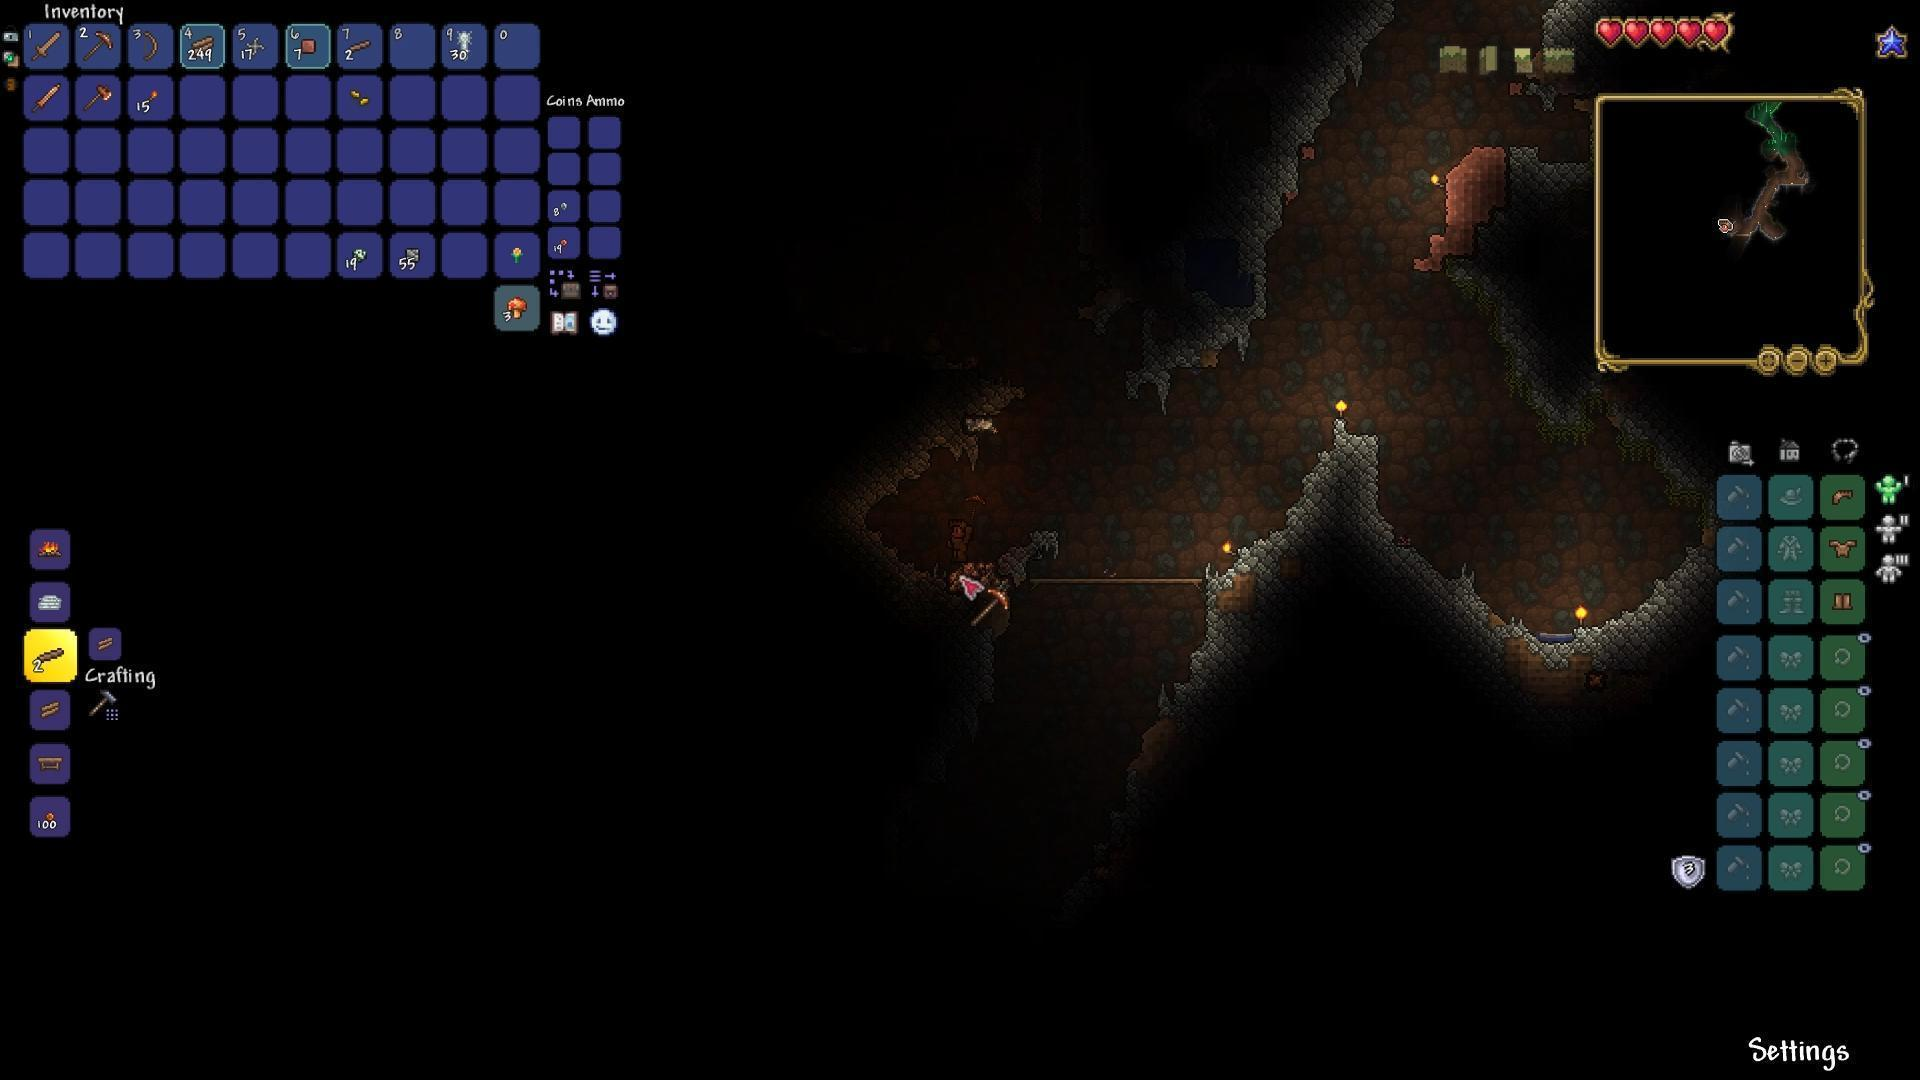axe: (82, 84, 117, 109)
bow: (141, 29, 161, 62)
breastplate: (1828, 538, 1859, 560)
heart: (1648, 17, 1677, 50), (1623, 16, 1651, 50), (1594, 17, 1625, 47), (1702, 17, 1727, 47), (1679, 18, 1702, 47)
pickaxe: (78, 29, 117, 65)
platform: (1021, 567, 1204, 593)
rope: (455, 29, 476, 59)
shuriken: (244, 36, 265, 57)
wood: (189, 37, 216, 54), (96, 637, 116, 653)
workbench: (34, 750, 65, 773)
